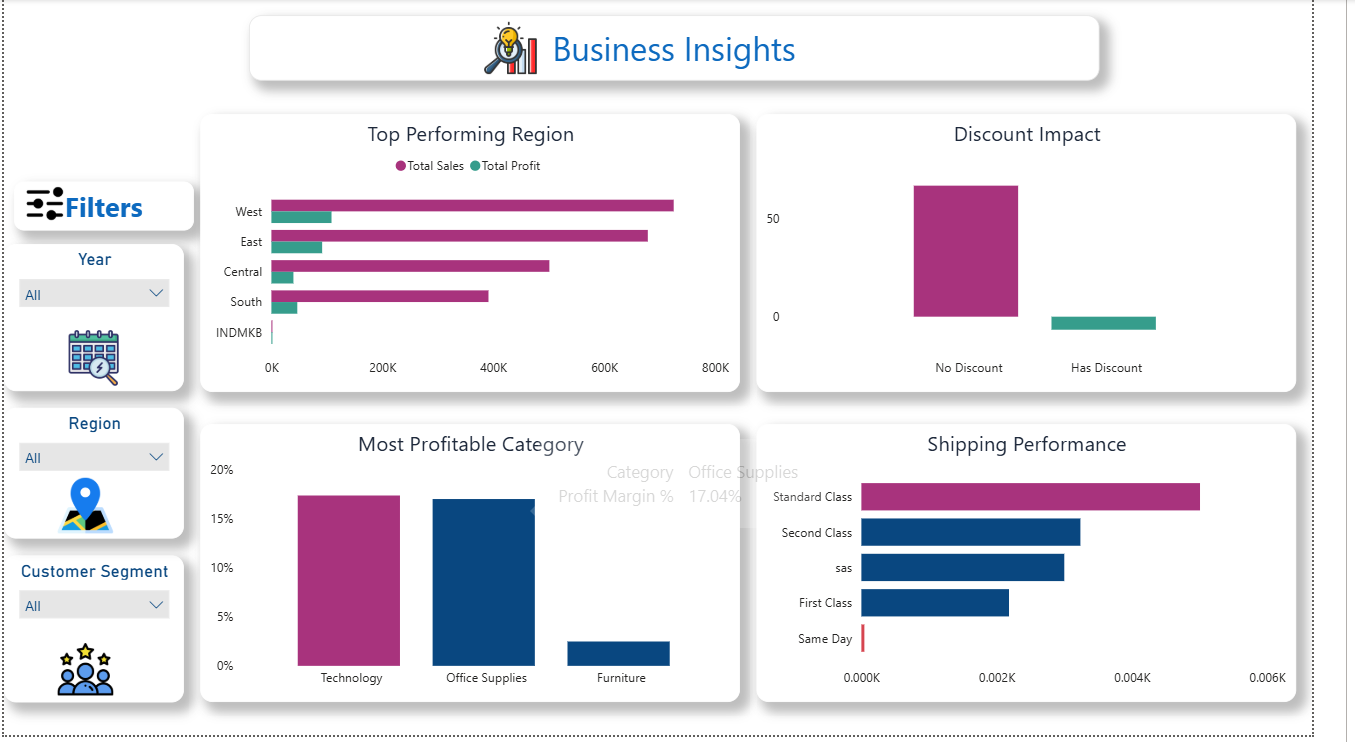

Layout of this report page (visuals, bound fields, positions):
{"tool":"powerbi","page":{"name":"Page 4","canvas":[1280,720],"ordinal":3},"visuals":[{"type":"shape","box":[10,178,176,48],"z":0},{"type":"image","box":[16,176,48,48],"z":1000},{"type":"slicer","title":"Year","fields":{"Values":["DimDate.OrderYear"]},"box":[0,240,176,144],"z":1000,"group":"g1"},{"type":"group","id":"g1","title":"Group 2","box":[0,240,176,448],"z":2000},{"type":"group","id":"g2","title":"Group 1","box":[240,16,832,64],"z":3000},{"type":"slicer","title":"Customer Segment","fields":{"Values":["DimCustomer.Segment"]},"box":[0,544,176,144],"z":3000,"group":"g1"},{"type":"slicer","title":"Region","fields":{"Values":["DimLocation.Region"]},"box":[0,400,176,128],"z":4000,"group":"g1"},{"type":"clusteredColumnChart","title":"Most Profitable Category","fields":{"Y":["Measures (2).Profit Margin %"],"Category":["DimProduct.Category"]},"box":[192,416,528,272],"z":4000},{"type":"image","box":[464,16,64,64],"z":5000},{"type":"clusteredBarChart","title":"Top Performing Region","fields":{"Category":["DimLocation.Region"],"Y":["Measures (2).Total Sales","Measures (2).Total Profit"]},"box":[192,112,528,272],"z":6000},{"type":"clusteredColumnChart","title":"Discount Impact","fields":{"Y":["Business Measures.Average Profit"],"Category":["FactSales.Discount Status"]},"box":[736,112,528,272],"z":7000},{"type":"group","id":"g3","title":"Group 4","box":[240,16,832,64],"z":8000,"group":"g2"},{"type":"clusteredBarChart","title":"Shipping Performance","fields":{"Y":["Measures (2).Average Shipping Days"],"Category":["DimShipMode.ShipMode"]},"box":[736,416,528,272],"z":8000},{"type":"shape","box":[240,16,832,64],"z":10000,"group":"g3"},{"type":"image","box":[48,624,64,64],"z":12000,"group":"g1"},{"type":"image","box":[48,448,64,96],"z":13000,"group":"g1"},{"type":"image","box":[48,320,80,64],"z":14000,"group":"g1"}]}

Visuals, with their boxes in screenshot pixels (x1, y1, x2, y2), scaled from the page's 1280x720 canvas onto the 1355x742 screenshot:
shape: crop(11, 183, 197, 233)
image: crop(17, 181, 68, 231)
"Year" slicer: crop(0, 247, 186, 396)
"Group 2" group: crop(0, 247, 186, 709)
"Group 1" group: crop(254, 16, 1135, 82)
"Customer Segment" slicer: crop(0, 561, 186, 709)
"Region" slicer: crop(0, 412, 186, 544)
"Most Profitable Category" clusteredColumnChart: crop(203, 429, 762, 709)
image: crop(491, 16, 559, 82)
"Top Performing Region" clusteredBarChart: crop(203, 115, 762, 396)
"Discount Impact" clusteredColumnChart: crop(779, 115, 1338, 396)
"Group 4" group: crop(254, 16, 1135, 82)
"Shipping Performance" clusteredBarChart: crop(779, 429, 1338, 709)
shape: crop(254, 16, 1135, 82)
image: crop(51, 643, 119, 709)
image: crop(51, 462, 119, 561)
image: crop(51, 330, 136, 396)
